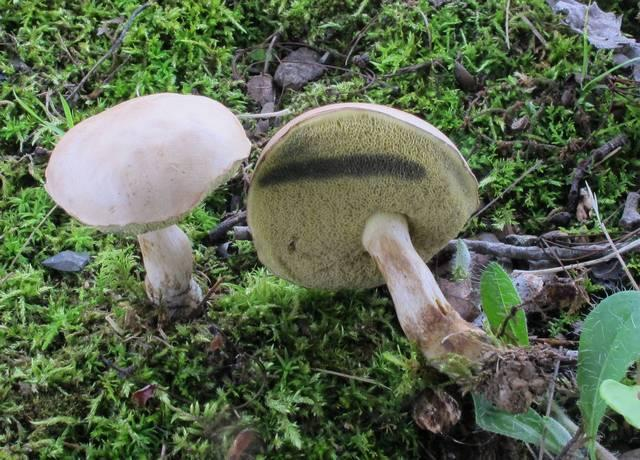edible_mushroom: (245, 100, 505, 391), (42, 90, 251, 320)
